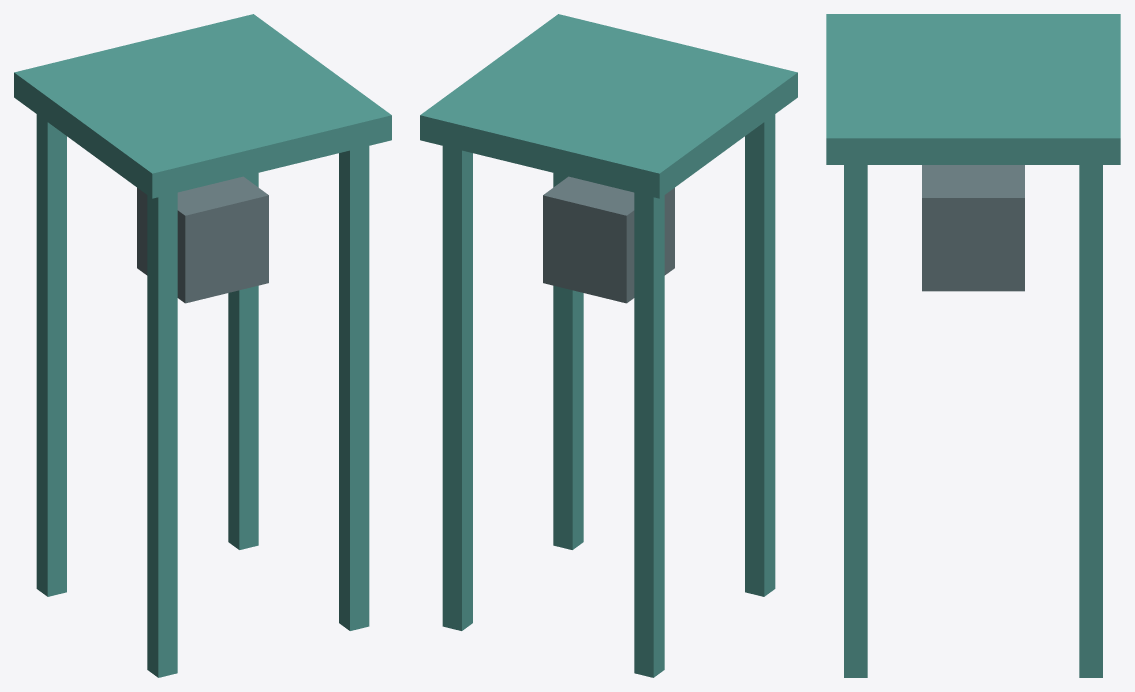
File: bell-tower.source.glb
The picture shows the model from 3 angles, left to right: view 1: azimuth 30°, elevation 25°; view 2: azimuth 150°, elevation 25°; view 3: azimuth 270°, elevation 25°; orthographic projection. The views are drawn at different scales.
Parts seen in each view (by area): view 1: bell-tower-roof-mesh, bell-tower-leg--0.8-0.8-mesh, bell-tower-leg-0.8-0.8-mesh, bell-tower-leg--0.8--0.8-mesh, bell-tower-bell-mesh, bell-tower-leg-0.8--0.8-mesh; view 2: bell-tower-roof-mesh, bell-tower-leg--0.8--0.8-mesh, bell-tower-leg-0.8--0.8-mesh, bell-tower-leg--0.8-0.8-mesh, bell-tower-bell-mesh, bell-tower-leg-0.8-0.8-mesh; view 3: bell-tower-roof-mesh, bell-tower-bell-mesh, bell-tower-leg-0.8--0.8-mesh, bell-tower-leg-0.8-0.8-mesh.
Boxes of the visible parts, box(x1,y1,x2,y2) form: bell-tower-roof-mesh: box(14, 14, 391, 198); bell-tower-leg--0.8-0.8-mesh: box(147, 192, 177, 677); bell-tower-leg-0.8-0.8-mesh: box(339, 146, 369, 630); bell-tower-leg--0.8--0.8-mesh: box(36, 114, 66, 596); bell-tower-bell-mesh: box(137, 176, 268, 303); bell-tower-leg-0.8--0.8-mesh: box(228, 173, 258, 549); bell-tower-roof-mesh: box(420, 14, 797, 198); bell-tower-leg--0.8--0.8-mesh: box(634, 192, 664, 677); bell-tower-leg-0.8--0.8-mesh: box(442, 146, 472, 630); bell-tower-leg--0.8-0.8-mesh: box(745, 114, 775, 596); bell-tower-bell-mesh: box(543, 176, 674, 303); bell-tower-leg-0.8-0.8-mesh: box(553, 173, 583, 549); bell-tower-roof-mesh: box(826, 14, 1120, 164); bell-tower-bell-mesh: box(922, 165, 1024, 291); bell-tower-leg-0.8--0.8-mesh: box(1079, 165, 1102, 677); bell-tower-leg-0.8-0.8-mesh: box(844, 165, 867, 677).
Bounding box in the file's own units: 2 × 4.1 × 2.
